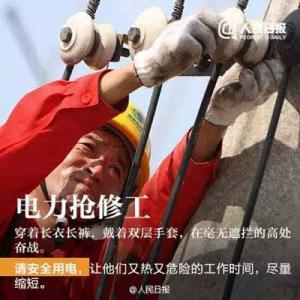yellow: (42, 100, 158, 222)
